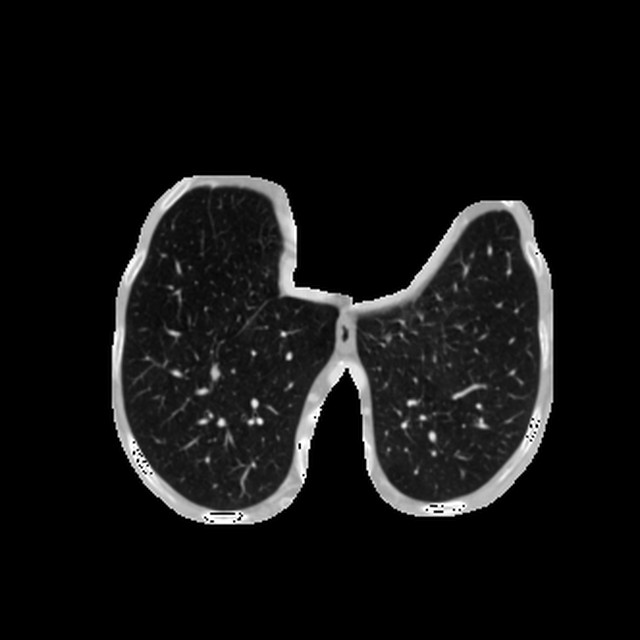PN: (208, 366, 220, 378)
